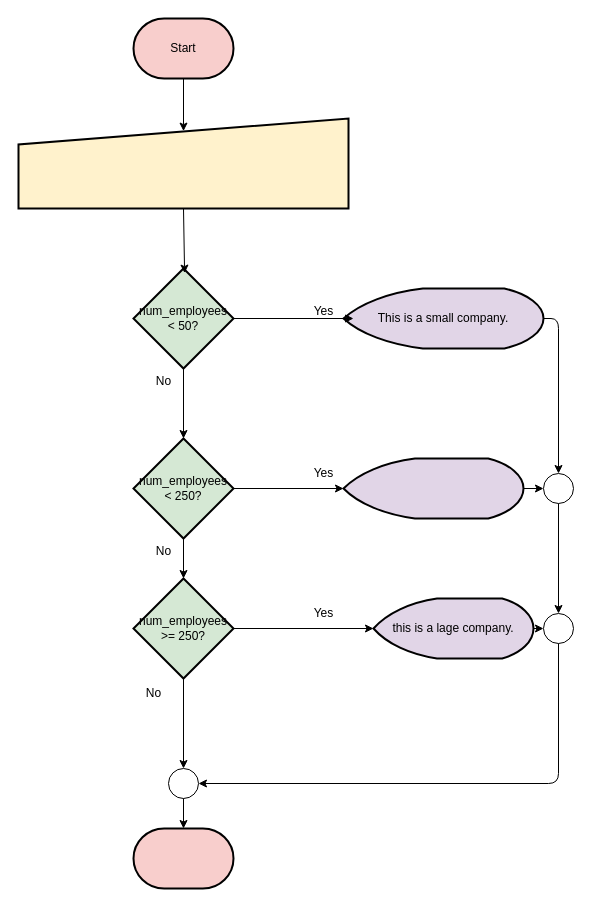
Some shapes in this 591 by 906 pixel diagram are drawn without their labels. The shapes that lost their labels are listed below. From the top down, each one's centre as x and y in pixels, then its label:
(183,163): Enther the number of employee:num_employees
(433,488): this is a medium-sized company.
(183,858): Stop
